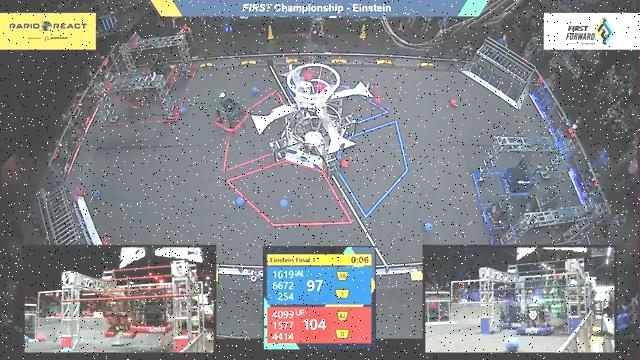Robot: (518, 185, 564, 231), (500, 147, 535, 196), (210, 92, 249, 133), (141, 54, 179, 93), (477, 195, 516, 233), (114, 78, 151, 113)
